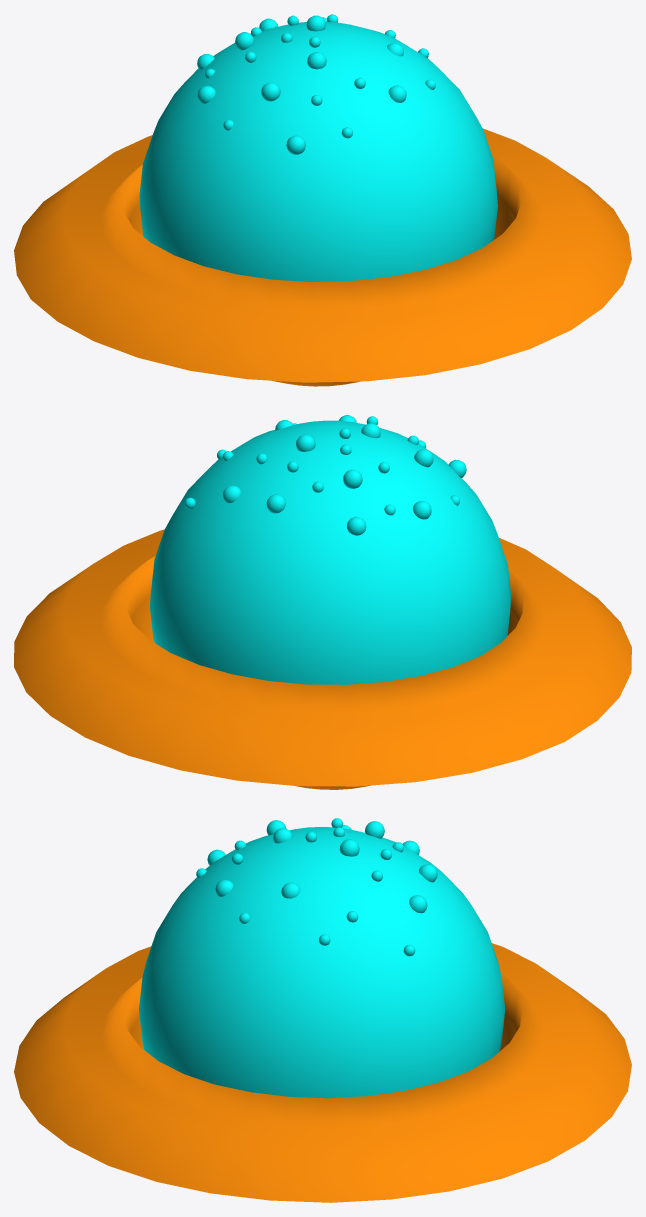
Rendered from Lago_Huevo HP.fbx.
3 renders of one model, top to bottom at view 1: azimuth 30°, elevation 25°; view 2: azimuth 150°, elevation 25°; view 3: azimuth 270°, elevation 25°, orthographic.
Visible parts, largest first — view 1: Helado HP; view 2: Helado HP; view 3: Helado HP.
Boxes of the visible parts, bbox=[...] form: Helado HP: bbox=[14, 14, 631, 386]; Helado HP: bbox=[14, 415, 631, 789]; Helado HP: bbox=[14, 818, 631, 1202].
Bounding box in the file's own units: 255 × 154 × 249.
